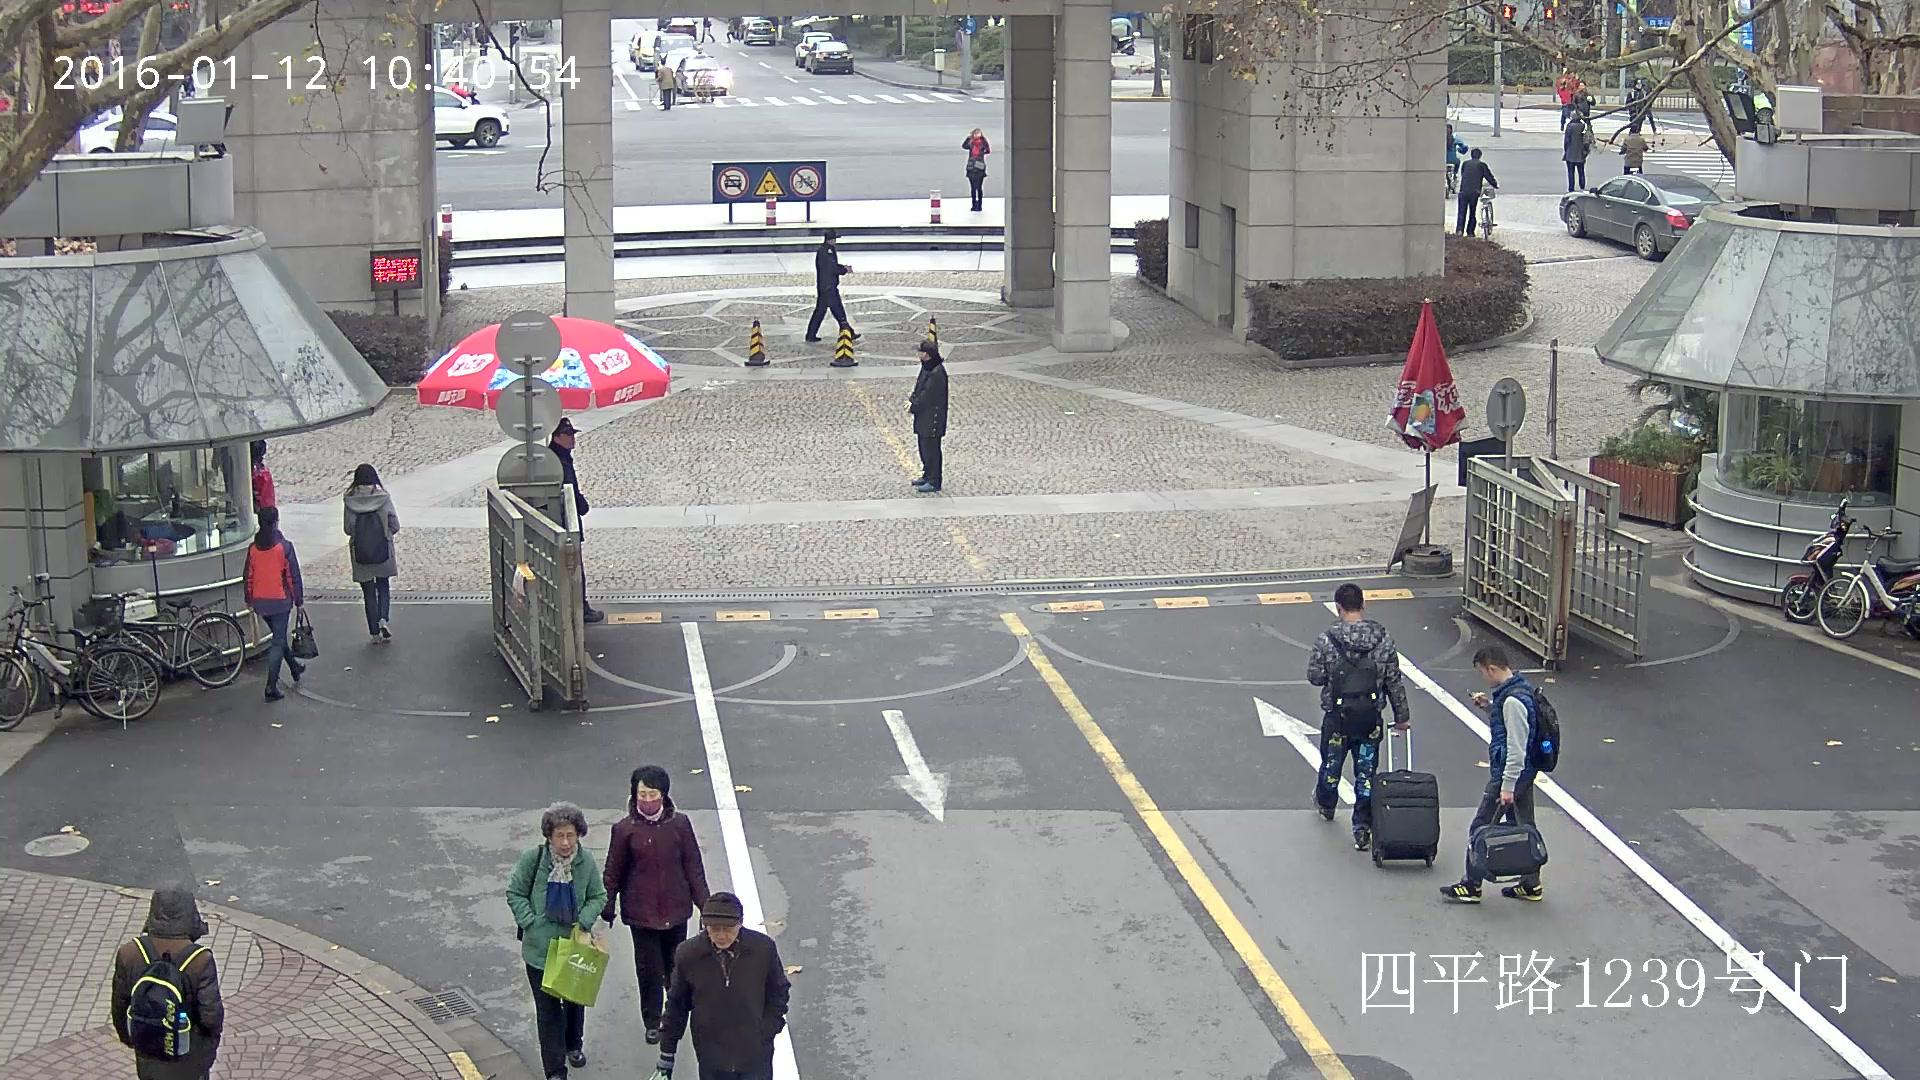person: (1306, 582, 1440, 866), (599, 763, 712, 1045), (1439, 644, 1558, 904), (1439, 647, 1559, 904), (505, 799, 609, 1080), (1307, 583, 1410, 852), (650, 892, 791, 1080), (110, 885, 223, 1080), (242, 504, 319, 701), (547, 416, 604, 622), (343, 462, 399, 643), (903, 340, 948, 492), (805, 230, 861, 342), (1454, 148, 1498, 242), (1454, 148, 1498, 238), (1560, 111, 1593, 193), (961, 127, 989, 211), (251, 437, 275, 515), (1445, 123, 1469, 197), (1618, 124, 1647, 175), (1636, 77, 1661, 135), (1573, 80, 1596, 143), (1555, 75, 1579, 130), (1445, 124, 1469, 178), (1626, 77, 1647, 135), (450, 79, 480, 104), (659, 60, 673, 110), (450, 79, 473, 100), (700, 16, 714, 43), (726, 19, 741, 43)
